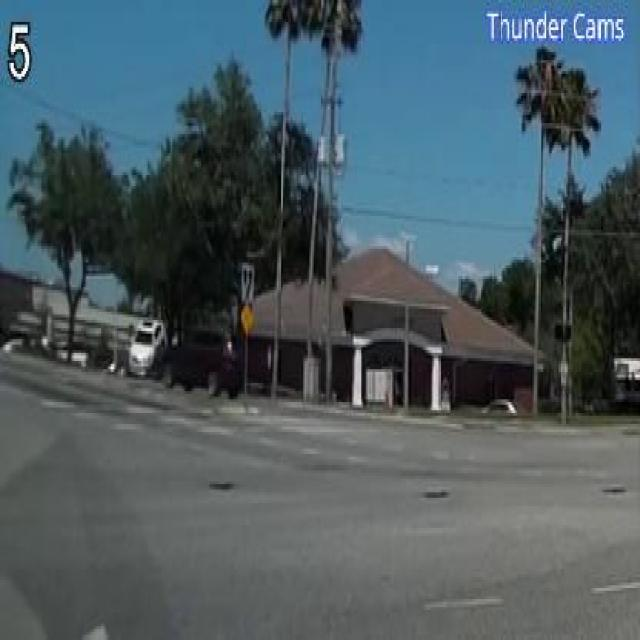accident: (125, 304, 240, 396)
